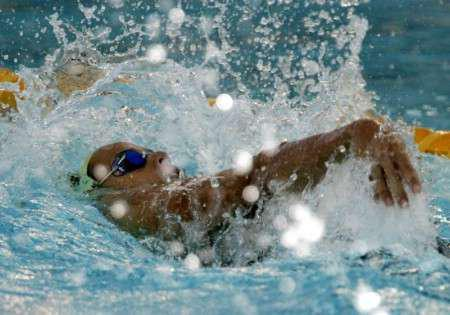swimmer: (75, 113, 422, 263)
